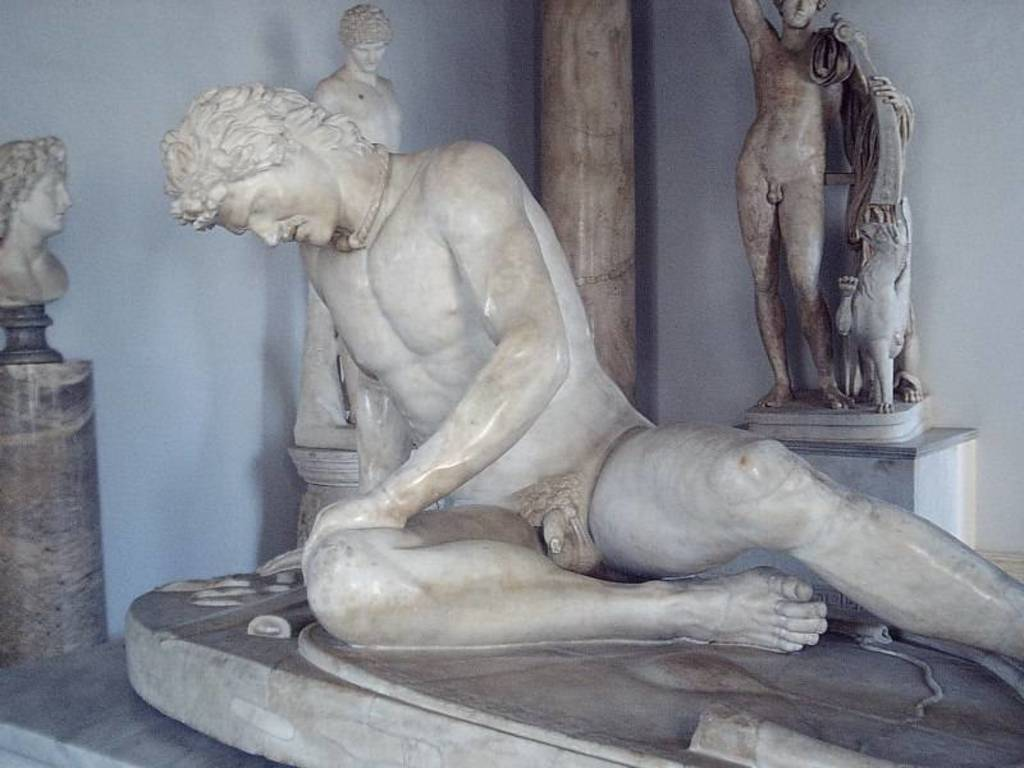face: (213, 167, 336, 249)
